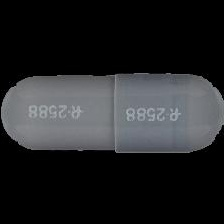50090-0802: (0, 0, 224, 224)
